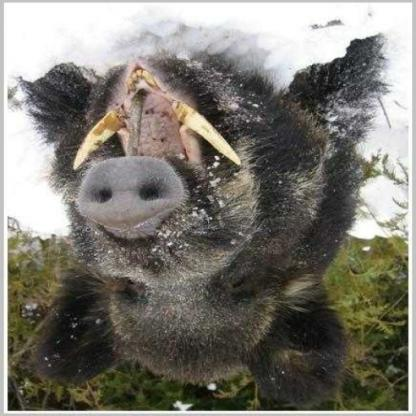boar: (77, 38, 408, 402)
